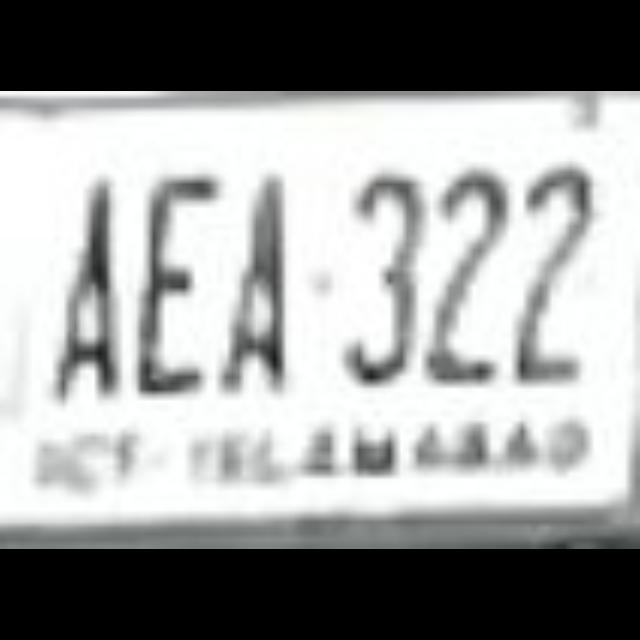2: (438, 157, 516, 399), (519, 157, 597, 399)
3: (356, 157, 434, 399)
A: (48, 158, 126, 400), (210, 160, 288, 402)
E: (130, 157, 208, 399)
